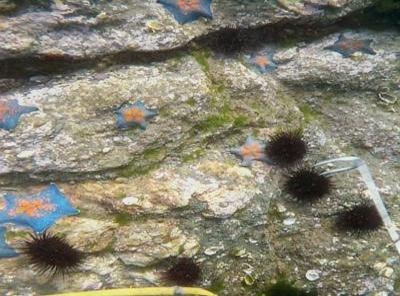urchin: (21, 231, 87, 272), (282, 167, 335, 205), (263, 128, 313, 168), (343, 197, 388, 231), (168, 256, 204, 286)
